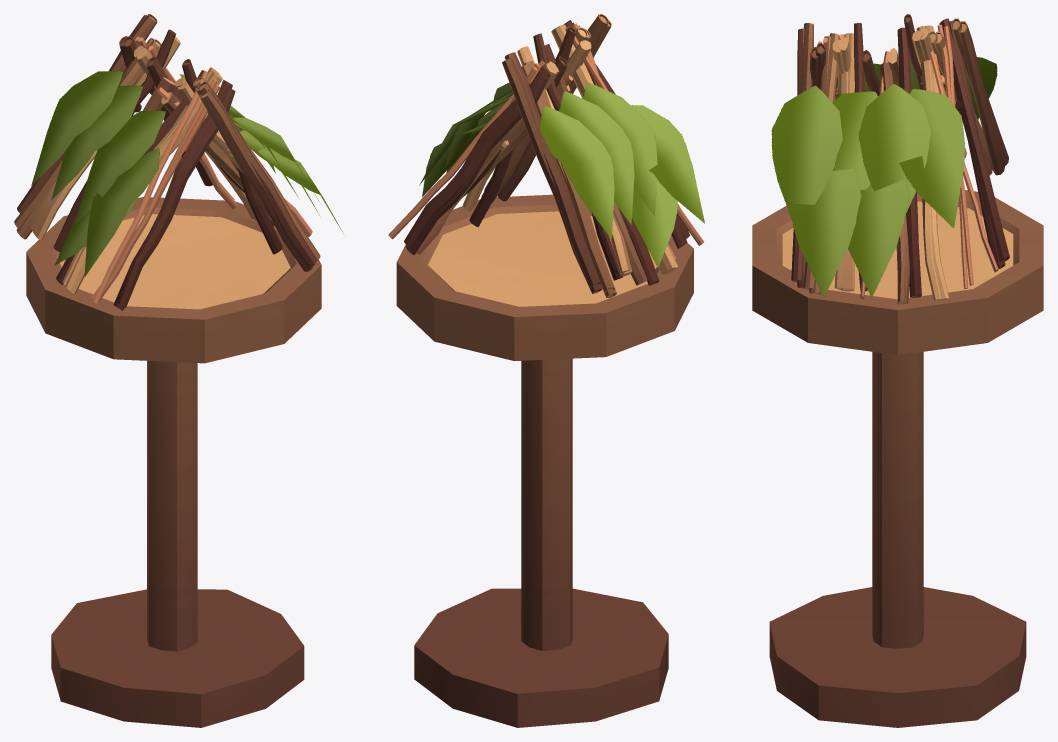
Rendered from CrowPlatform.fbx.
3 views of the same model, side by side, from view 1: azimuth 30°, elevation 25°; view 2: azimuth 150°, elevation 25°; view 3: azimuth 270°, elevation 25° (orthographic). The views are drawn at different scales.
Parts seen in each view (by area): view 1: TwigStructure5; view 2: TwigStructure5; view 3: TwigStructure5.
Part boxes in pixels (left/top/right/bottom): TwigStructure5: left=14, top=14, right=343, bottom=727; TwigStructure5: left=388, top=14, right=704, bottom=727; TwigStructure5: left=752, top=14, right=1043, bottom=727.
Size of the model in its own units: 281 by 618 by 247.
